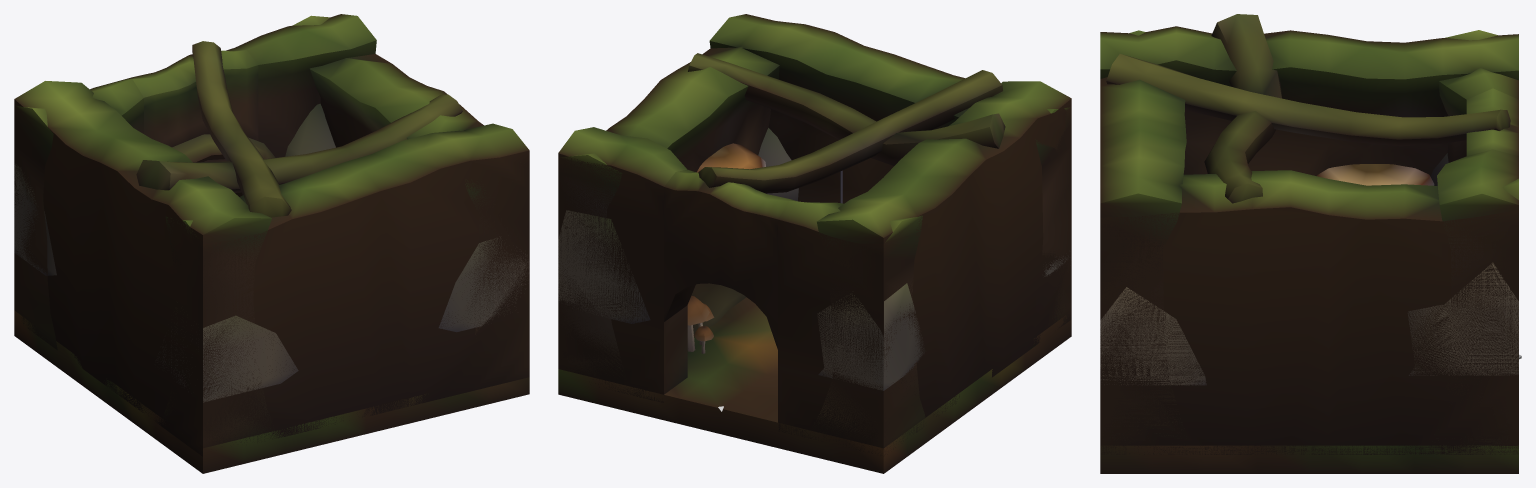
The model's file is mossy_entry.fbx.
3 renders of one model, left to right at view 1: azimuth 30°, elevation 25°; view 2: azimuth 150°, elevation 25°; view 3: azimuth 270°, elevation 25°, orthographic. The views are drawn at different scales.
Visible parts, largest first — view 1: COL_WallS_01, COL_WallW_01, COL_Floor, COL_WallE_01, COL_WallN_02, COL_WallN_01, COL_WallN_03, COL_CeilingRoot_01, COL_CeilingRoot_02, COL_Corner_01, COL_Corner_02, COL_Corner_04 (+2 smaller); view 2: COL_WallW_01, COL_WallN_01, COL_WallN_02, COL_Floor, COL_WallS_01, COL_WallE_01, COL_WallN_03, COL_CeilingRoot_02, COL_Corner_04, COL_CeilingRoot_01, COL_Corner_03, COL_Ledge_02 (+2 smaller); view 3: COL_WallE_01, COL_WallW_01, COL_WallS_01, COL_Floor, COL_CeilingRoot_02, COL_WallN_02, COL_Corner_03, COL_CeilingRoot_01, COL_Corner_02, COL_WallN_01, COL_WallN_03, COL_Ledge_01.
Part boxes in pixels (x1=…): COL_WallS_01: x1=162, y1=123, x2=529, y2=455; COL_WallW_01: x1=14, y1=81, x2=273, y2=456; COL_Floor: x1=14, y1=310, x2=529, y2=473; COL_WallE_01: x1=293, y1=15, x2=528, y2=334; COL_WallN_02: x1=235, y1=14, x2=376, y2=196; COL_WallN_01: x1=14, y1=79, x2=143, y2=350; COL_WallN_03: x1=122, y1=48, x2=258, y2=161; COL_CeilingRoot_01: x1=136, y1=94, x2=462, y2=192; COL_CeilingRoot_02: x1=192, y1=41, x2=291, y2=217; COL_Corner_01: x1=155, y1=302, x2=298, y2=402; COL_Corner_02: x1=438, y1=236, x2=528, y2=332; COL_Corner_04: x1=14, y1=164, x2=56, y2=275; COL_WallW_01: x1=813, y1=81, x2=1071, y2=447; COL_WallN_01: x1=778, y1=200, x2=925, y2=455; COL_WallN_02: x1=558, y1=127, x2=687, y2=402; COL_Floor: x1=558, y1=297, x2=1071, y2=473; COL_WallS_01: x1=709, y1=14, x2=1071, y2=349; COL_WallE_01: x1=558, y1=46, x2=779, y2=382; COL_WallN_03: x1=664, y1=169, x2=798, y2=349; COL_CeilingRoot_02: x1=698, y1=70, x2=1002, y2=193; COL_Corner_04: x1=817, y1=283, x2=924, y2=390; COL_CeilingRoot_01: x1=688, y1=53, x2=1005, y2=165; COL_Corner_03: x1=558, y1=210, x2=650, y2=323; COL_Ledge_02: x1=696, y1=143, x2=765, y2=172; COL_WallE_01: x1=1100, y1=170, x2=1518, y2=454; COL_WallW_01: x1=1100, y1=26, x2=1518, y2=176; COL_WallS_01: x1=1100, y1=30, x2=1186, y2=454; COL_Floor: x1=1100, y1=445, x2=1518, y2=473; COL_CeilingRoot_02: x1=1106, y1=54, x2=1510, y2=146; COL_WallN_02: x1=1431, y1=149, x2=1518, y2=454; COL_Corner_03: x1=1407, y1=262, x2=1518, y2=375; COL_CeilingRoot_01: x1=1204, y1=14, x2=1282, y2=203; COL_Corner_02: x1=1100, y1=287, x2=1206, y2=385; COL_WallN_01: x1=1439, y1=30, x2=1518, y2=162; COL_WallN_03: x1=1466, y1=88, x2=1518, y2=155; COL_Ledge_01: x1=1317, y1=164, x2=1434, y2=185.
Bounding box in the file's own units: 8000 × 6166 × 8050.
